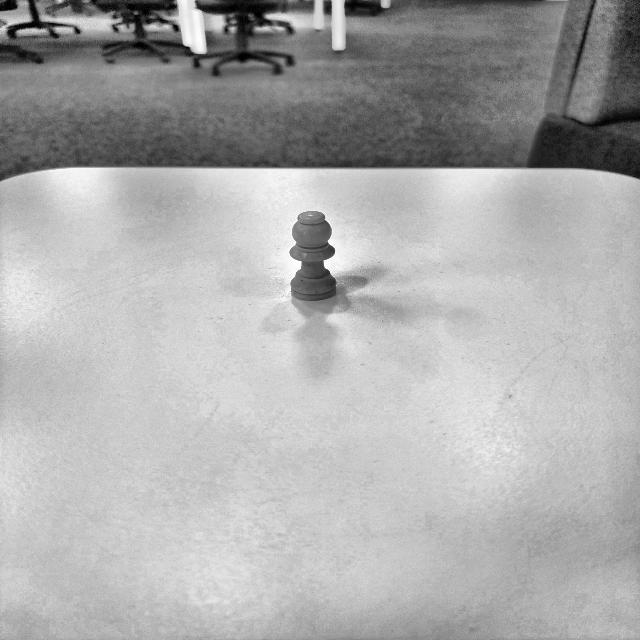white-bishop: (289, 211, 336, 301)
